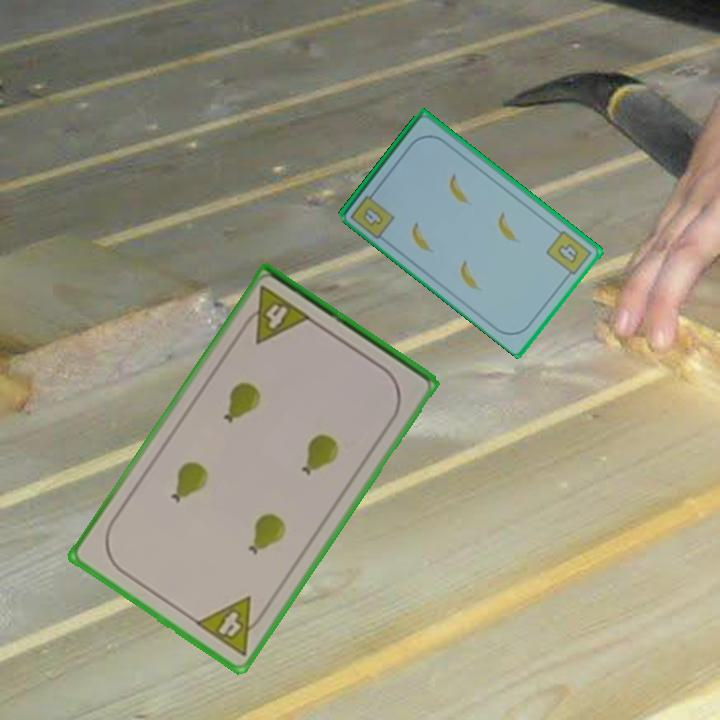4b: (542, 226, 594, 282), (347, 186, 398, 241)
4p: (191, 593, 271, 660), (237, 282, 314, 347)
